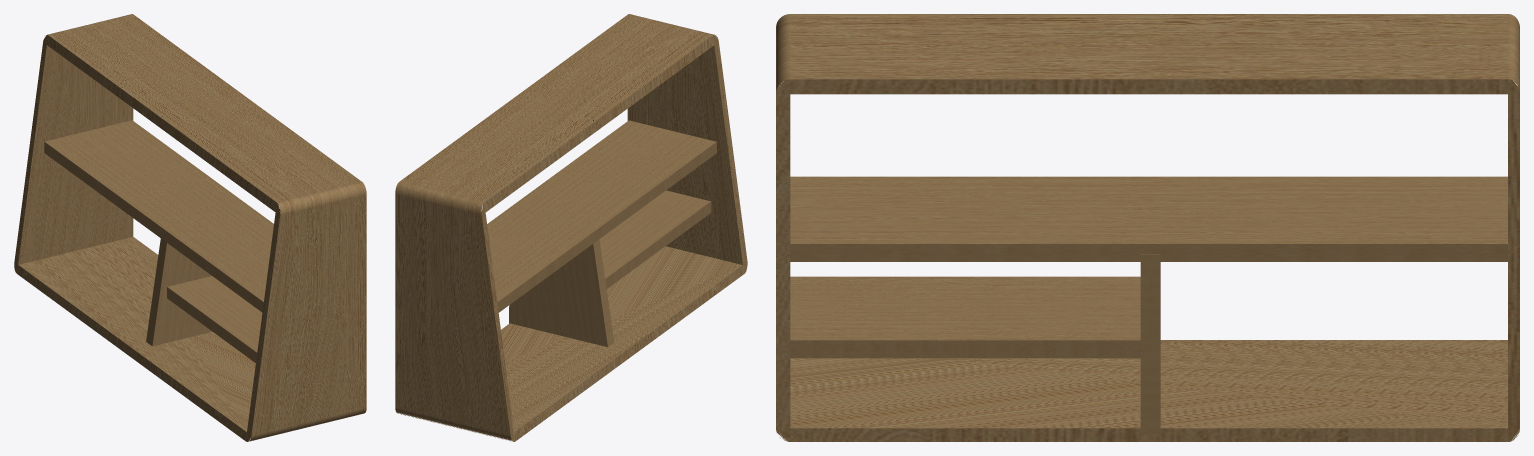
The model's file is Shelff.glb.
The picture shows the model from 3 angles, left to right: view 1: azimuth 30°, elevation 25°; view 2: azimuth 150°, elevation 25°; view 3: azimuth 270°, elevation 25°; orthographic projection. The views are drawn at different scales.
Visible parts, largest first — view 1: Shelff; view 2: Shelff; view 3: Shelff.
Boxes of the visible parts, x1,y1,x2,y2 form: Shelff: (14,14,366,441); Shelff: (395,14,747,441); Shelff: (776,14,1519,441).
Bounding box in the file's own units: 0.6555 × 1.23 × 2.29.
1 material, 1 textured.
